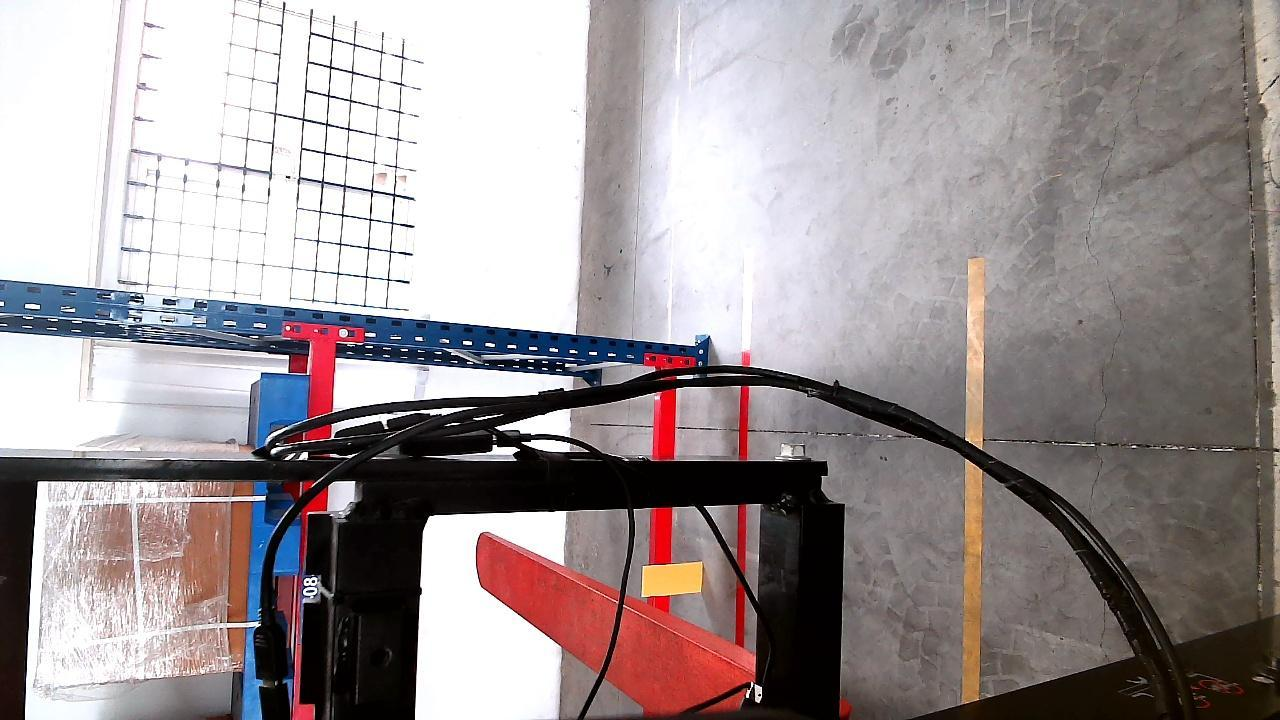red_line: (735, 269, 750, 646)
yellow_line: (960, 245, 989, 717)
